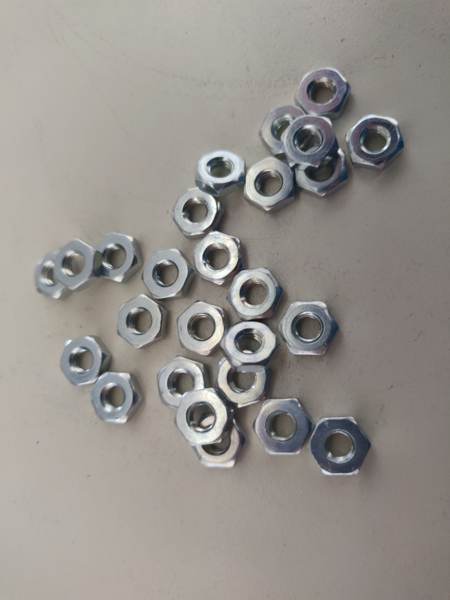nut: (310, 416, 373, 476), (279, 299, 339, 357), (345, 115, 407, 170), (292, 66, 354, 119), (244, 155, 300, 212), (253, 401, 310, 455), (225, 266, 279, 319), (191, 229, 243, 284), (116, 296, 169, 349), (283, 111, 338, 162), (176, 389, 225, 446), (177, 301, 228, 355), (223, 321, 278, 371), (93, 369, 143, 424), (143, 246, 194, 299), (158, 357, 209, 409), (214, 357, 265, 407), (255, 104, 305, 155), (61, 334, 110, 386), (173, 185, 223, 235), (193, 417, 244, 466), (96, 231, 139, 285), (298, 149, 346, 196), (54, 237, 97, 289), (195, 149, 243, 195), (35, 251, 66, 301)
